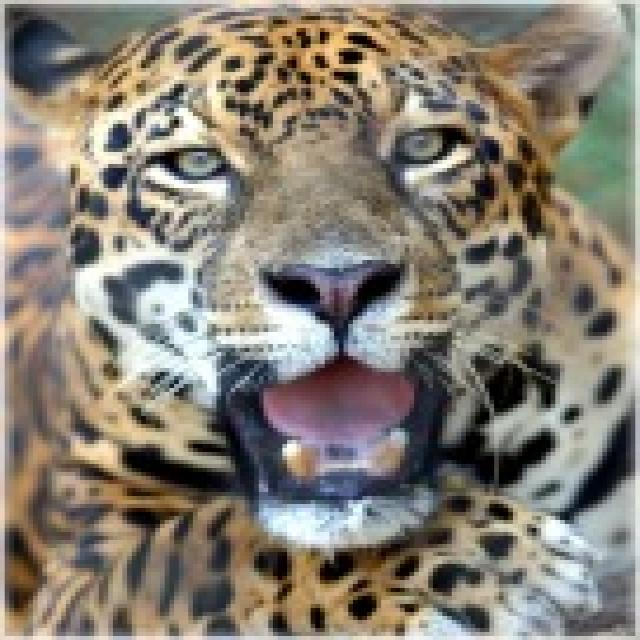Leopard: (9, 0, 626, 628)
